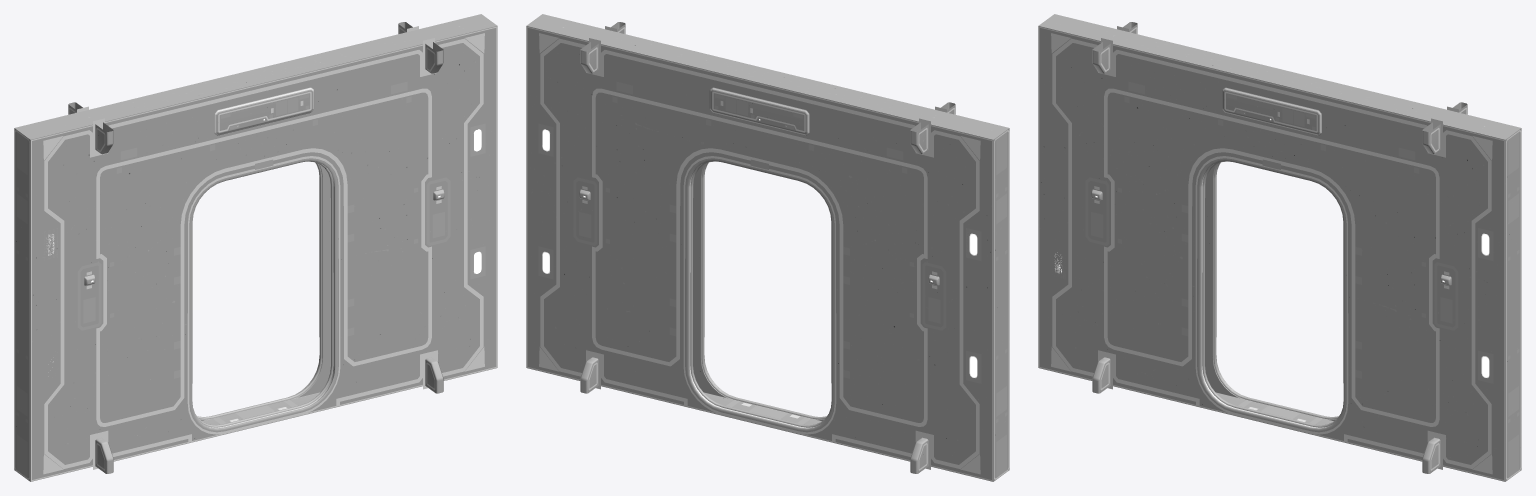
File: SM_Modular_Interior_Door_Merged.fbx
3 renders of one model, left to right at view 1: azimuth 30°, elevation 25°; view 2: azimuth 150°, elevation 25°; view 3: azimuth 330°, elevation 25°, orthographic.
Parts seen in each view (by area): view 1: SM_Modular_Interior_Door_Merged_LOD0; view 2: SM_Modular_Interior_Door_Merged_LOD0; view 3: SM_Modular_Interior_Door_Merged_LOD0.
Boxes of the visible parts, box(x1,y1,x2,y2) form: SM_Modular_Interior_Door_Merged_LOD0: box(14, 14, 497, 481); SM_Modular_Interior_Door_Merged_LOD0: box(526, 14, 1009, 481); SM_Modular_Interior_Door_Merged_LOD0: box(1038, 14, 1521, 481).
Size of the model in its own units: 500 by 72.38 by 357.
